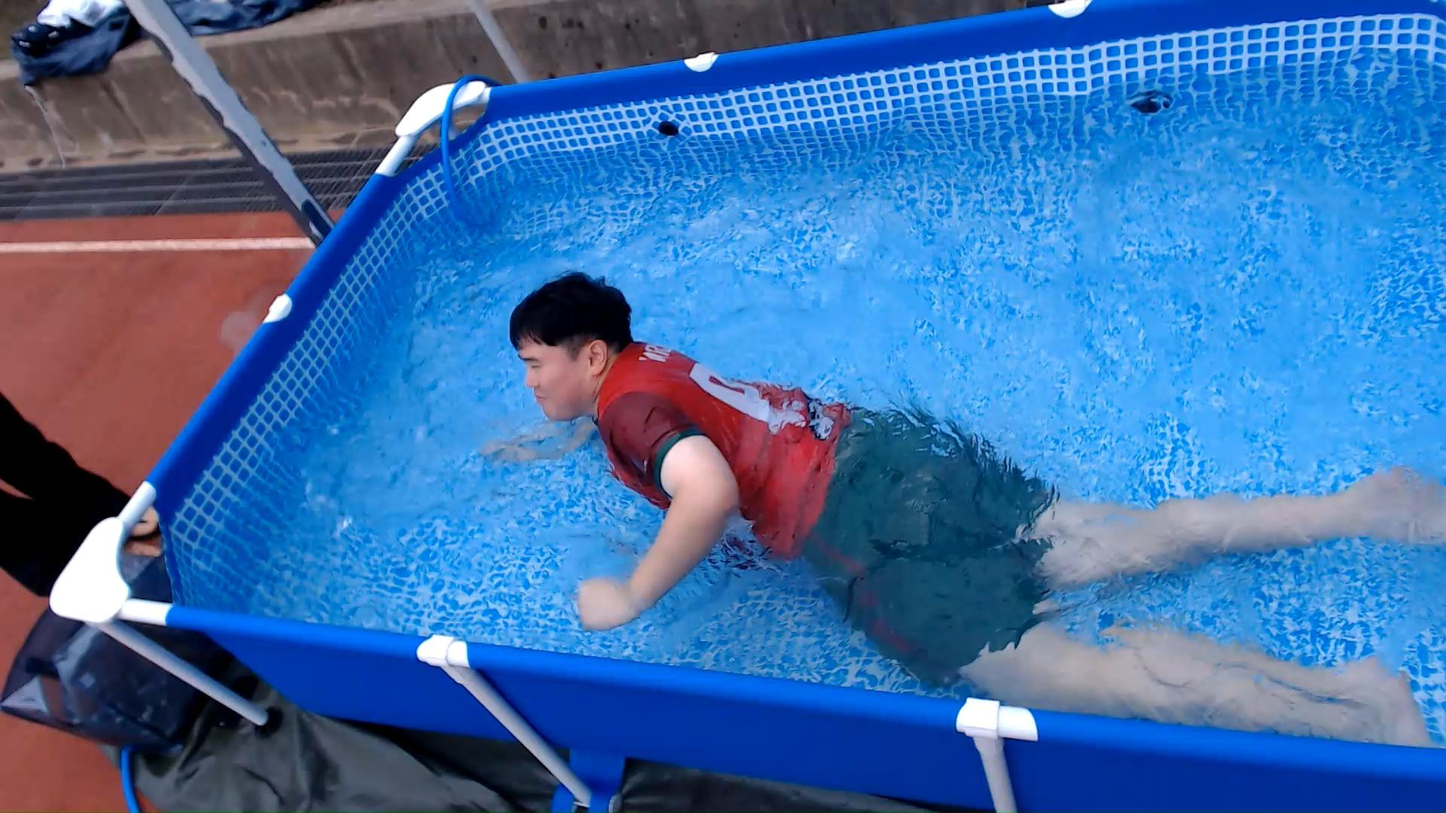Swimming: (421, 226, 1446, 788)
